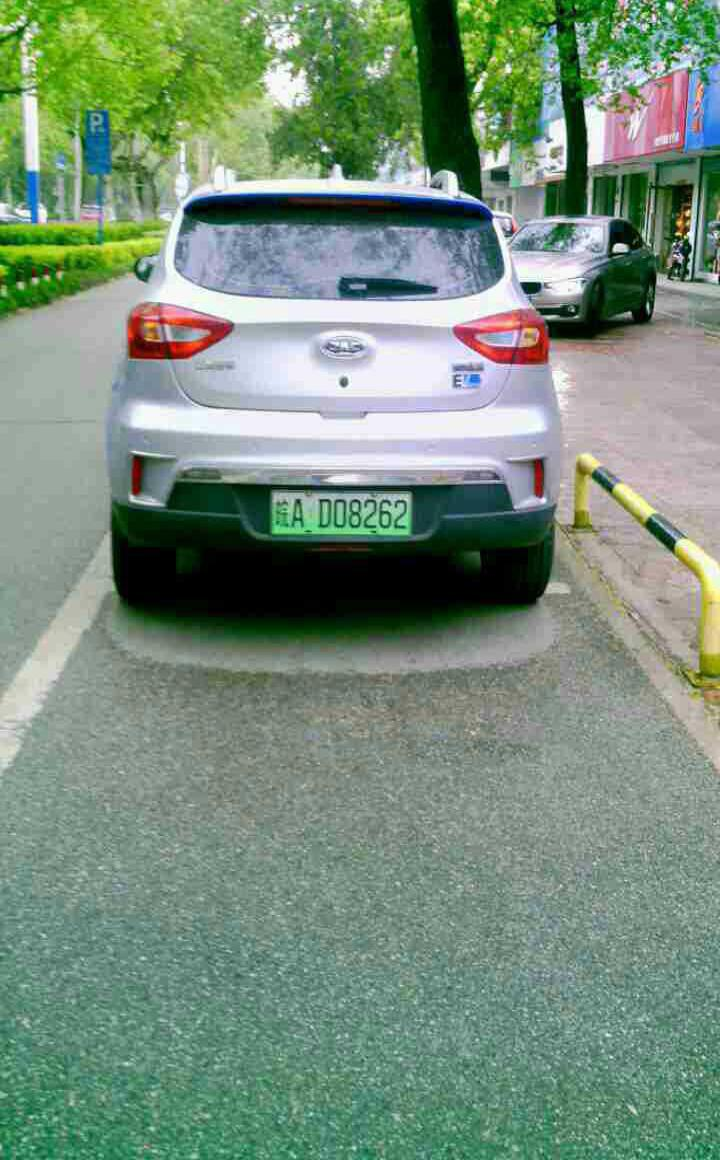car: (271, 487, 415, 536)
